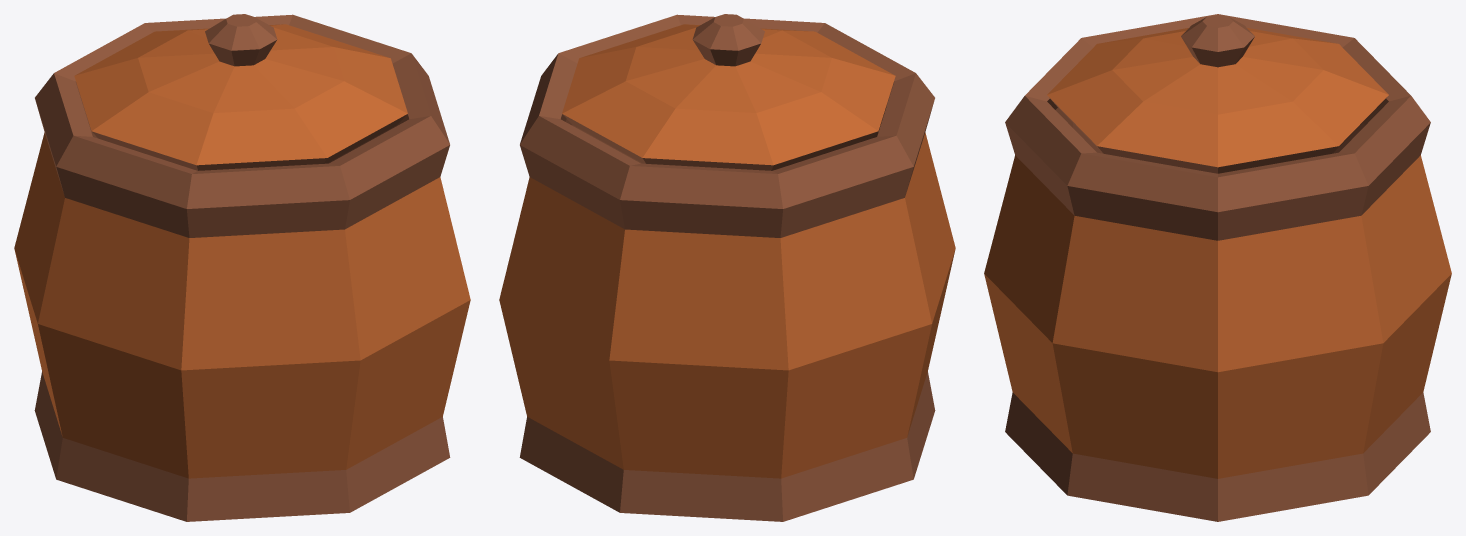
The model's file is jar_with_cover.fbx.
3 views of the same model, side by side, from view 1: azimuth 30°, elevation 25°; view 2: azimuth 150°, elevation 25°; view 3: azimuth 270°, elevation 25° (orthographic).
Parts seen in each view (by area): view 1: jar, cover_for_jar; view 2: jar, cover_for_jar; view 3: jar, cover_for_jar.
Boxes of the visible parts, x1,y1,x2,y2 form: jar: (14,14,470,521); cover_for_jar: (74,14,407,170); jar: (499,14,955,521); cover_for_jar: (562,14,895,170); jar: (984,14,1451,521); cover_for_jar: (1047,15,1388,173).
Bounding box in the file's own units: 23.8 × 23.01 × 23.8.
